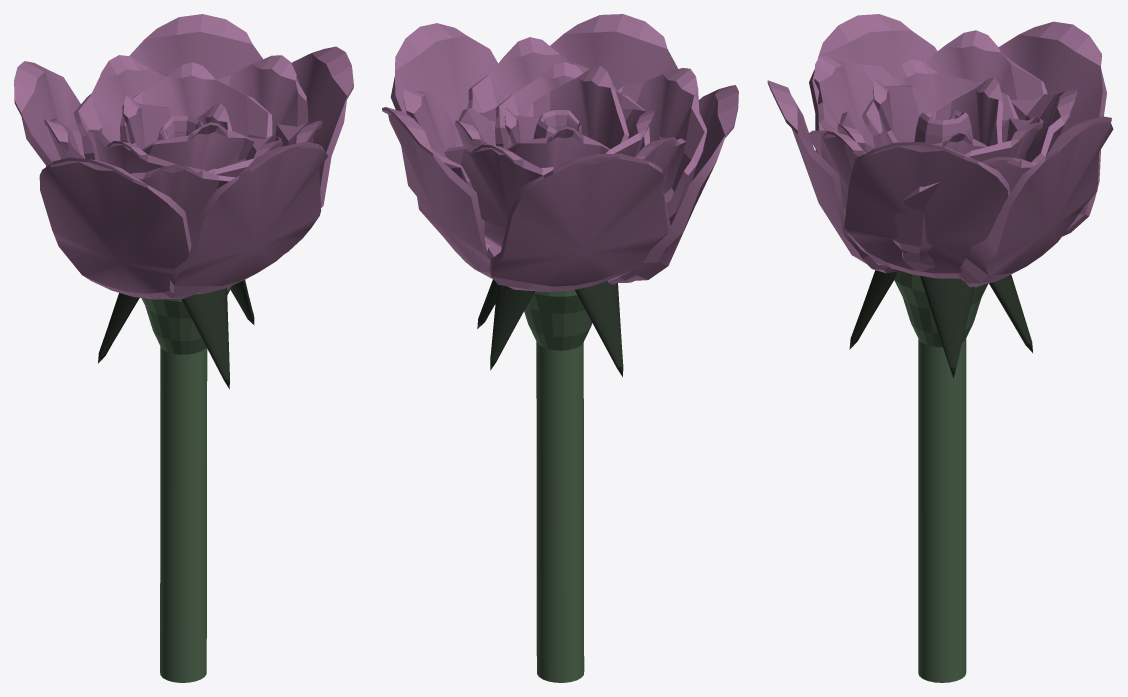
The model's file is rose.obj.
3 views of the same model, side by side, from view 1: azimuth 30°, elevation 25°; view 2: azimuth 150°, elevation 25°; view 3: azimuth 270°, elevation 25° (orthographic). The views are drawn at different scales.
Visible parts, largest first — view 1: rose roseStem, rosePetals rose polySurface20, rosePetals rose polySurface21, rosePetals rose polySurface22, rosePetals rose polySurface30, rosePetals rose polySurface19, rosePetals rose polySurface18, rosePetals rose polySurface25, rosePetals rose polySurface23, rosePetals rose polySurface33, rosePetals rose polySurface27, rosePetals rose polySurface32 (+6 smaller); view 2: rose roseStem, rosePetals rose polySurface18, rosePetals rose polySurface22, rosePetals rose polySurface19, rosePetals rose polySurface21, rosePetals rose polySurface27, rosePetals rose polySurface20, rosePetals rose polySurface25, rosePetals rose polySurface33, rosePetals rose polySurface29, rosePetals rose polySurface23, rosePetals rose polySurface26 (+6 smaller); view 3: rose roseStem, rosePetals rose polySurface19, rosePetals rose polySurface22, rosePetals rose polySurface18, rosePetals rose polySurface20, rosePetals rose polySurface28, rosePetals rose polySurface21, rosePetals rose polySurface27, rosePetals rose polySurface32, rosePetals rose polySurface23, rosePetals rose polySurface33, rosePetals rose polySurface34 (+6 smaller).
Boxes of the visible parts, bbox=[...] form: rose roseStem: bbox=[98, 280, 254, 682]; rosePetals rose polySurface20: bbox=[39, 157, 195, 299]; rosePetals rose polySurface21: bbox=[169, 141, 327, 294]; rosePetals rose polySurface22: bbox=[129, 14, 262, 79]; rosePetals rose polySurface30: bbox=[120, 62, 272, 143]; rosePetals rose polySurface19: bbox=[291, 46, 353, 208]; rosePetals rose polySurface18: bbox=[14, 61, 80, 166]; rosePetals rose polySurface25: bbox=[73, 55, 167, 160]; rosePetals rose polySurface23: bbox=[216, 55, 313, 142]; rosePetals rose polySurface33: bbox=[141, 122, 254, 171]; rosePetals rose polySurface27: bbox=[131, 164, 235, 244]; rosePetals rose polySurface32: bbox=[86, 129, 215, 173]; rose roseStem: bbox=[477, 279, 623, 682]; rosePetals rose polySurface18: bbox=[489, 153, 670, 291]; rosePetals rose polySurface22: bbox=[382, 107, 493, 279]; rosePetals rose polySurface19: bbox=[390, 23, 497, 119]; rosePetals rose polySurface21: bbox=[550, 14, 677, 90]; rosePetals rose polySurface27: bbox=[617, 68, 706, 219]; rosePetals rose polySurface20: bbox=[607, 85, 738, 284]; rosePetals rose polySurface25: bbox=[444, 144, 548, 247]; rosePetals rose polySurface33: bbox=[525, 66, 629, 149]; rosePetals rose polySurface29: bbox=[467, 37, 616, 121]; rosePetals rose polySurface23: bbox=[403, 87, 490, 250]; rosePetals rose polySurface26: bbox=[495, 62, 649, 156]; rose roseStem: bbox=[849, 270, 1032, 682]; rosePetals rose polySurface19: bbox=[844, 142, 1010, 278]; rosePetals rose polySurface22: bbox=[959, 116, 1113, 287]; rosePetals rose polySurface18: bbox=[998, 21, 1106, 236]; rosePetals rose polySurface20: bbox=[809, 14, 937, 152]; rosePetals rose polySurface28: bbox=[923, 30, 1047, 99]; rosePetals rose polySurface21: bbox=[767, 80, 897, 273]; rosePetals rose polySurface27: bbox=[814, 55, 892, 133]; rosePetals rose polySurface32: bbox=[862, 59, 1018, 148]; rosePetals rose polySurface23: bbox=[892, 157, 1037, 270]; rosePetals rose polySurface33: bbox=[873, 79, 937, 145]; rosePetals rose polySurface34: bbox=[914, 77, 1003, 146].
Bounding box in the file's own units: 2.17 × 4.03 × 2.09.
